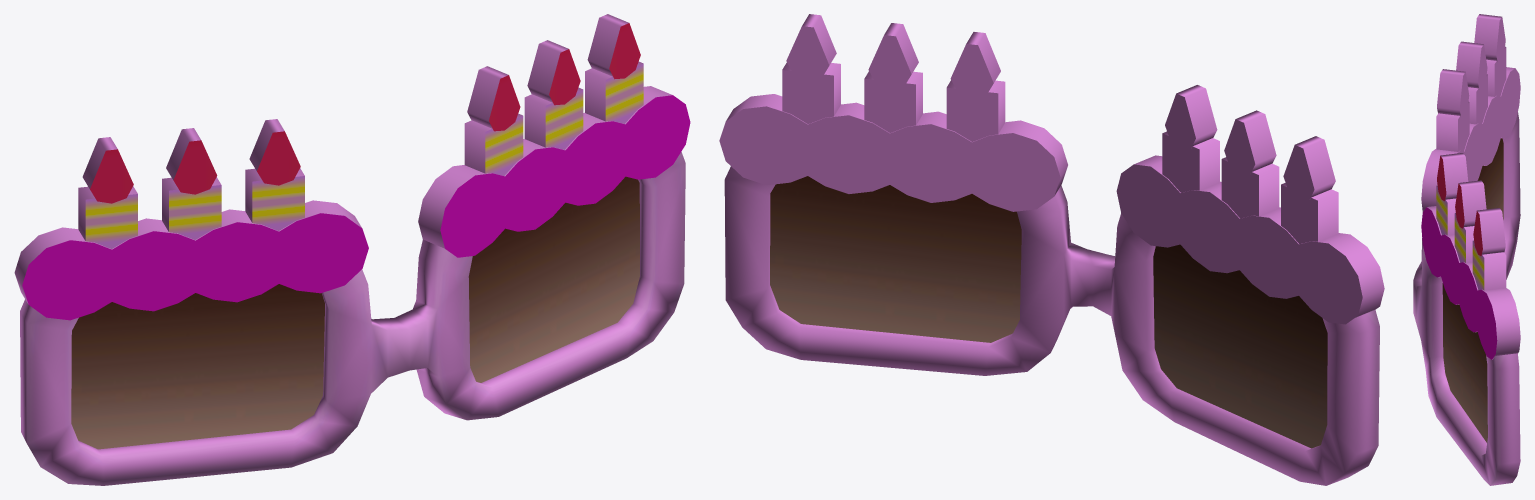
Rendered from AccessoryGlassBirthday1.glb.
The picture shows the model from 3 angles, left to right: view 1: azimuth 30°, elevation 25°; view 2: azimuth 150°, elevation 25°; view 3: azimuth 270°, elevation 25°; orthographic projection. The views are drawn at different scales.
Visible parts, largest first — view 1: Accessory__mAccessory, AccessoryAlpha1__mAccessoryAlpha; view 2: Accessory__mAccessory, AccessoryAlpha1__mAccessoryAlpha; view 3: Accessory__mAccessory, AccessoryAlpha1__mAccessoryAlpha.
Boxes of the visible parts, x1=… form: Accessory__mAccessory: x1=14, y1=14, x2=690, y2=485; AccessoryAlpha1__mAccessoryAlpha: x1=71, y1=176, x2=639, y2=449; Accessory__mAccessory: x1=719, y1=14, x2=1384, y2=485; AccessoryAlpha1__mAccessoryAlpha: x1=770, y1=176, x2=1327, y2=448; Accessory__mAccessory: x1=1413, y1=14, x2=1520, y2=485; AccessoryAlpha1__mAccessoryAlpha: x1=1442, y1=138, x2=1503, y2=442.
Size of the model in its own units: 5.81 by 2.8 by 1.03.
2 materials, 2 textured.
